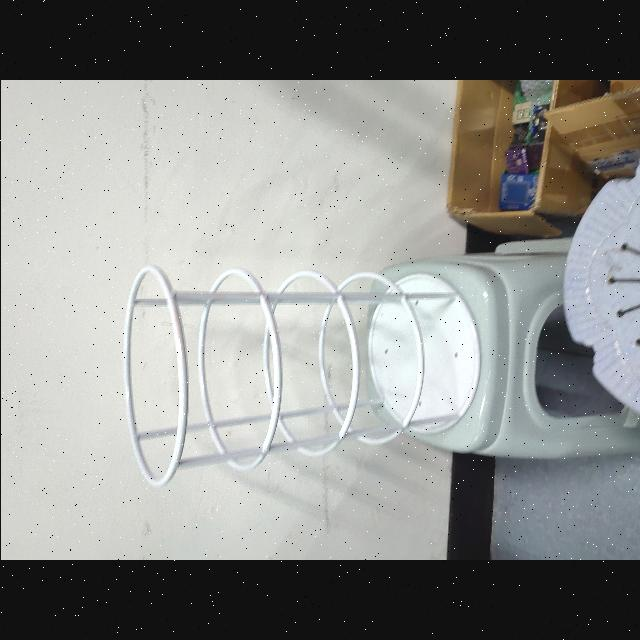S: (121, 255, 483, 490)
